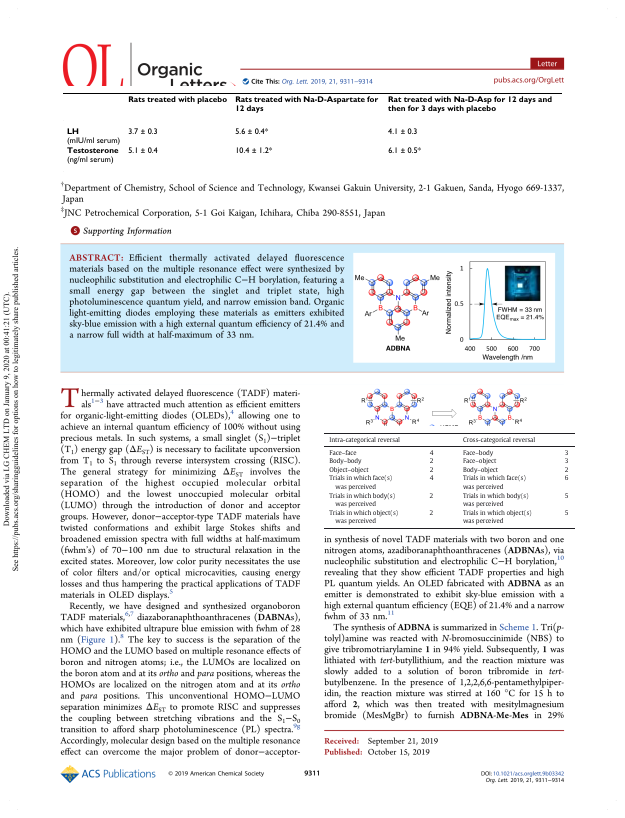borderless: (61, 91, 563, 173), (323, 431, 575, 528)
cell: (387, 96, 552, 114), (234, 96, 379, 114), (328, 509, 399, 526), (462, 509, 533, 526), (328, 491, 396, 508), (462, 491, 530, 508), (328, 474, 393, 491), (462, 474, 527, 491), (65, 127, 121, 146), (65, 147, 119, 165), (127, 96, 228, 105), (462, 436, 536, 444), (328, 436, 401, 444), (234, 146, 273, 156), (234, 127, 269, 137), (387, 146, 421, 156), (328, 466, 370, 474), (328, 457, 363, 466), (462, 457, 497, 466), (127, 127, 158, 137), (387, 127, 418, 137), (127, 146, 158, 156), (462, 466, 499, 474), (462, 449, 494, 457), (328, 449, 358, 457), (564, 457, 570, 466), (564, 474, 570, 483), (564, 491, 570, 500), (564, 449, 570, 457), (564, 466, 570, 474), (564, 509, 570, 517), (429, 457, 434, 466), (429, 474, 434, 483), (429, 491, 434, 500), (429, 449, 434, 457), (429, 466, 434, 474), (429, 509, 434, 517)
